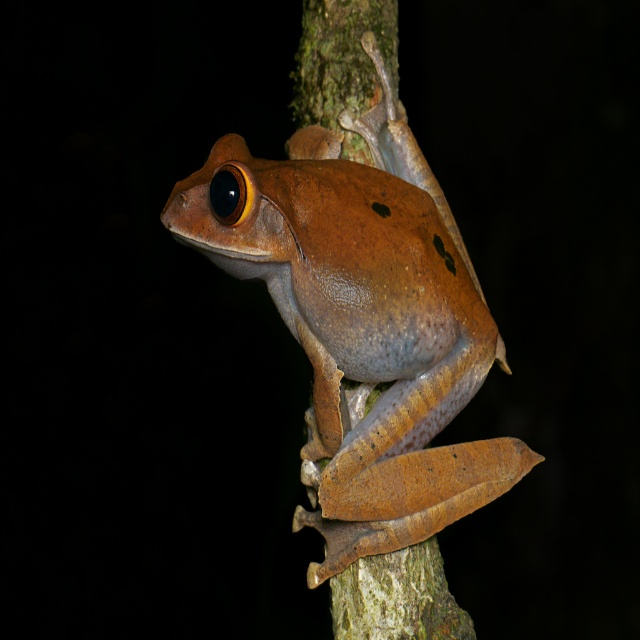Frog: (160, 133, 544, 590)
